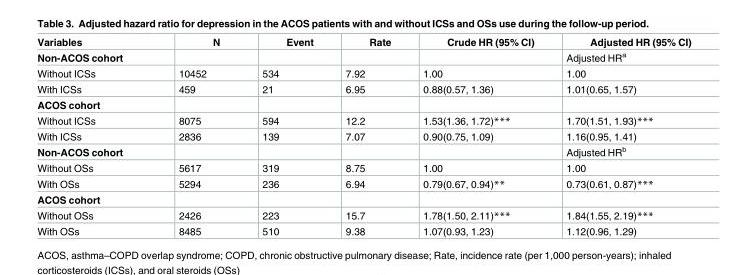table: (36, 37, 690, 236)
table column: (406, 37, 549, 236), (549, 37, 690, 236), (36, 37, 150, 236), (150, 37, 240, 236), (240, 37, 328, 236), (328, 37, 406, 236)
table column header: (36, 37, 690, 49)
table projected row header: (36, 97, 690, 112), (36, 192, 690, 206)
table row: (36, 112, 690, 129), (36, 143, 690, 160), (36, 175, 690, 192), (36, 206, 690, 223), (36, 49, 690, 65), (36, 65, 690, 81), (36, 81, 690, 97), (36, 97, 690, 112), (36, 160, 690, 175), (36, 129, 690, 143), (36, 192, 690, 206), (36, 223, 690, 236), (36, 37, 690, 49)
